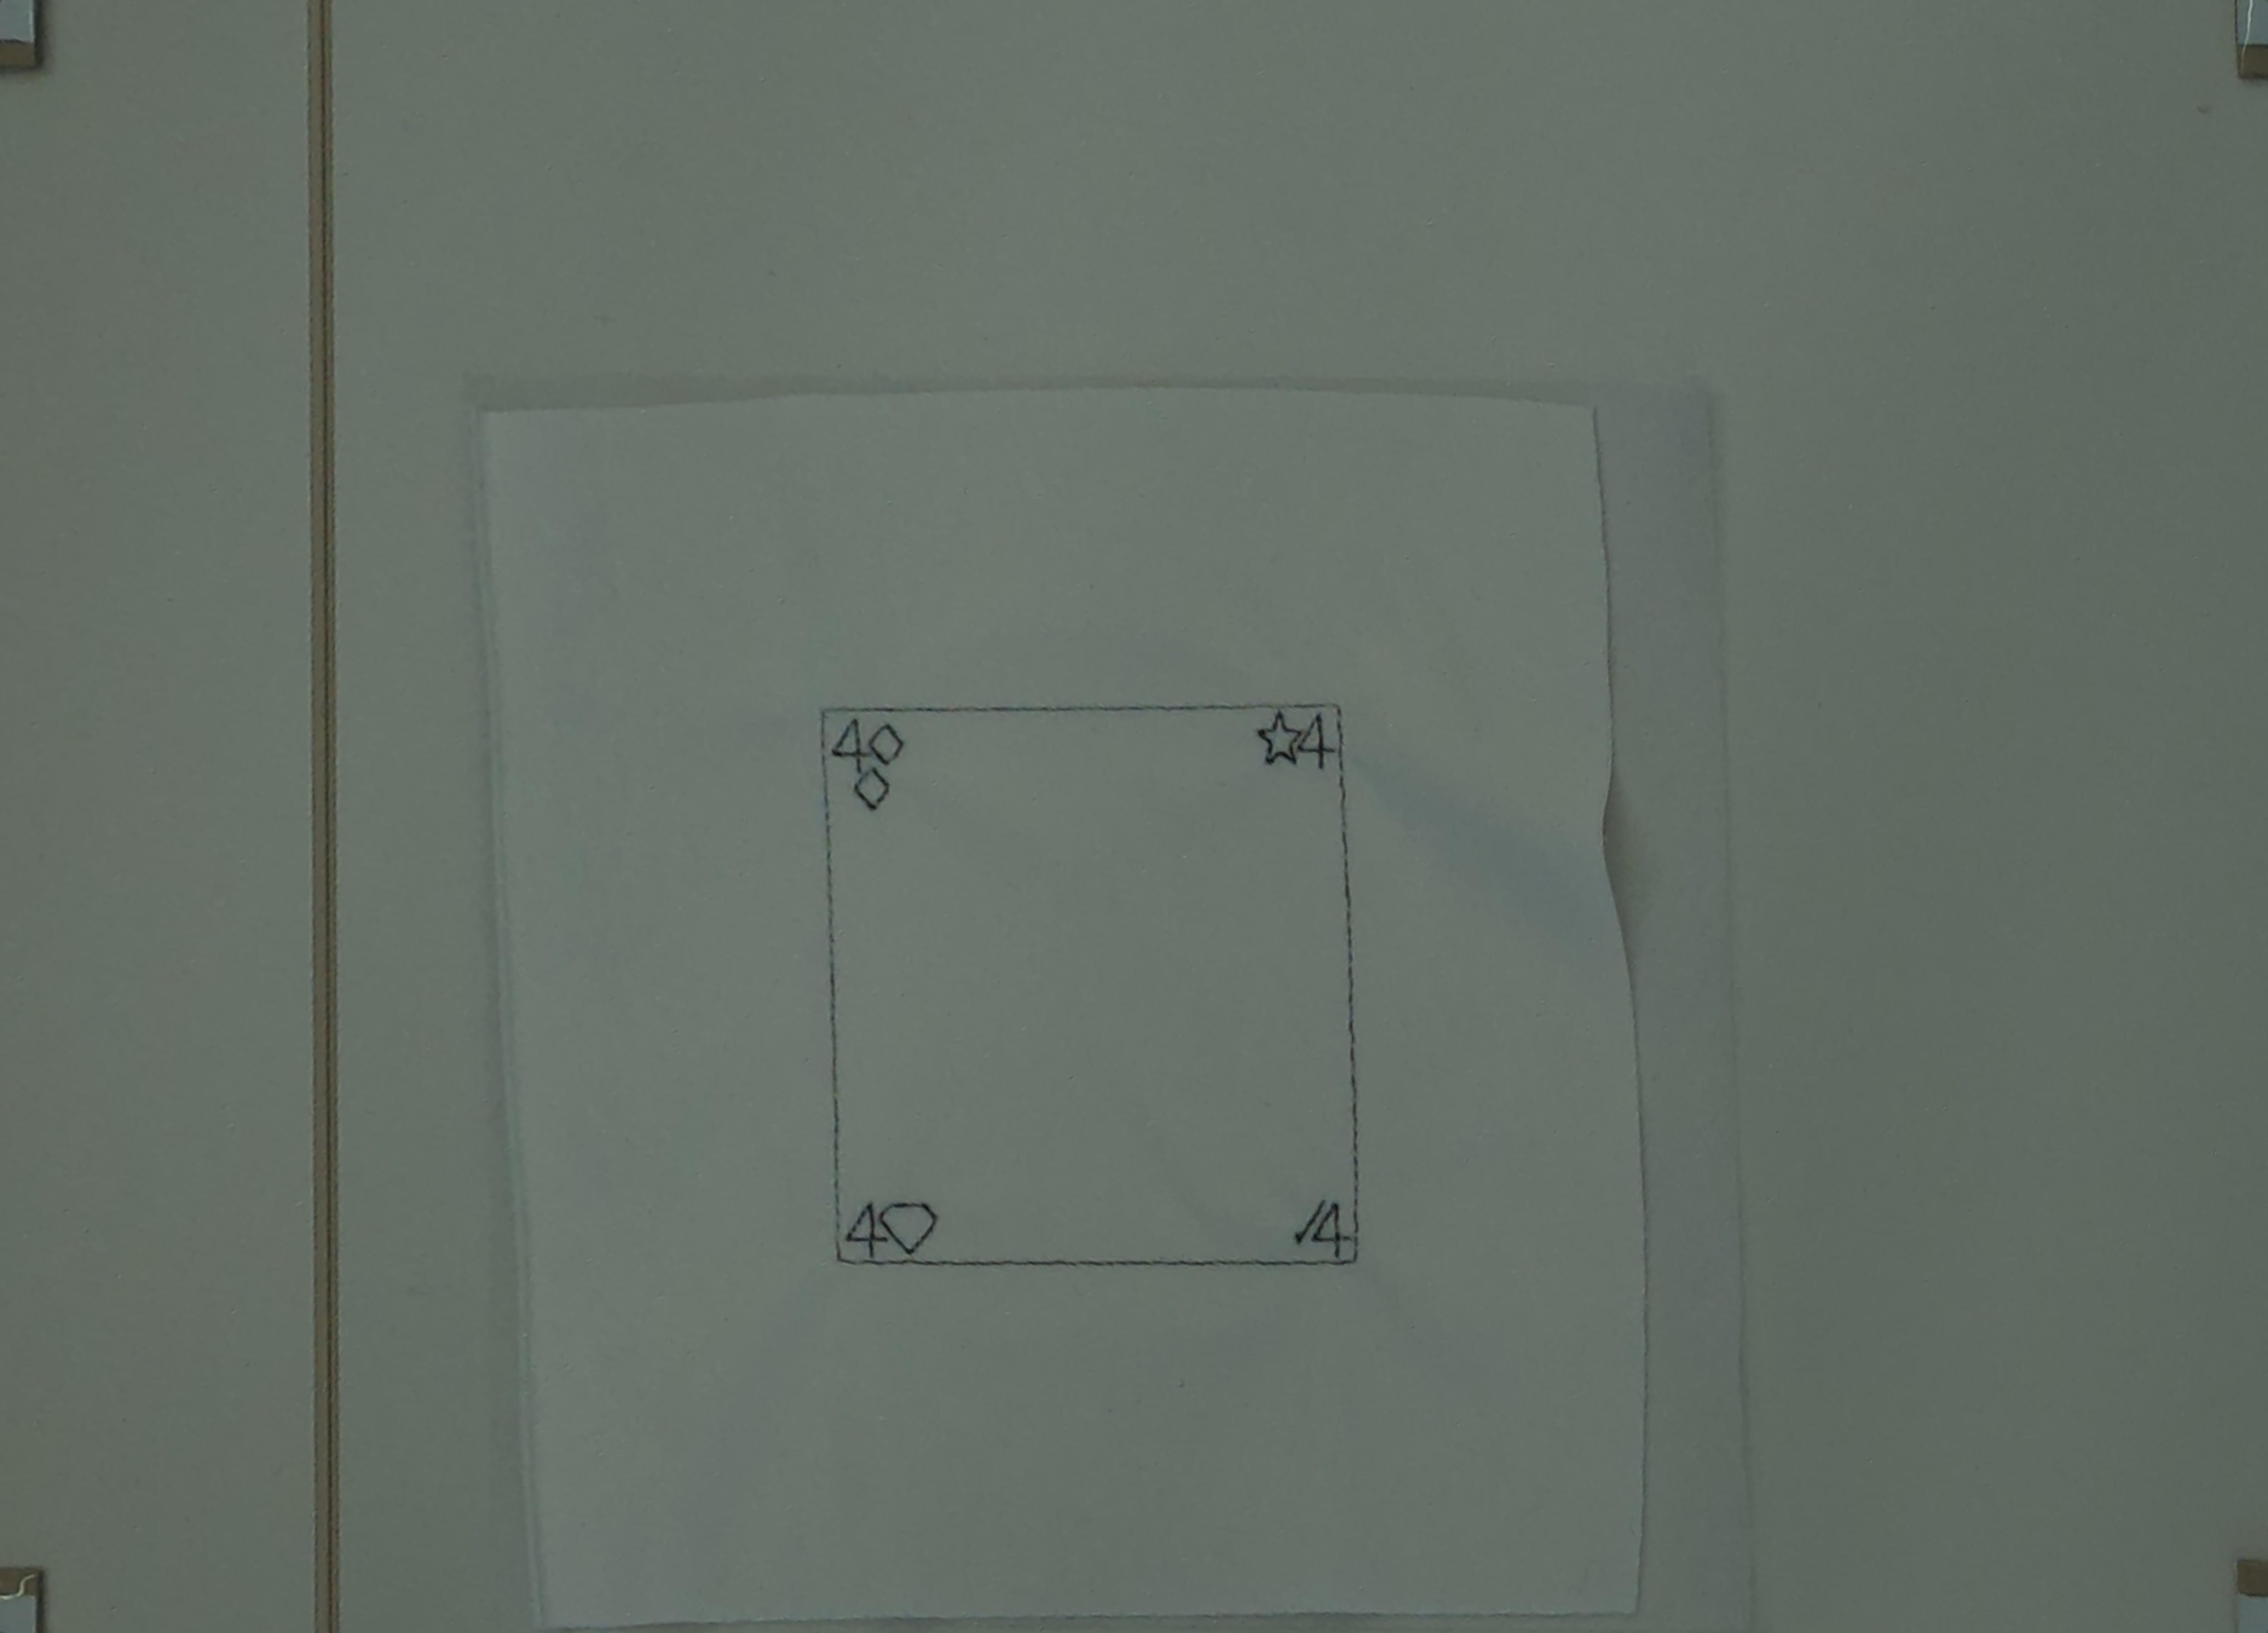4 -: (843, 1198, 891, 1261), (1301, 1198, 1354, 1254), (829, 710, 872, 773), (1292, 715, 1340, 772)
